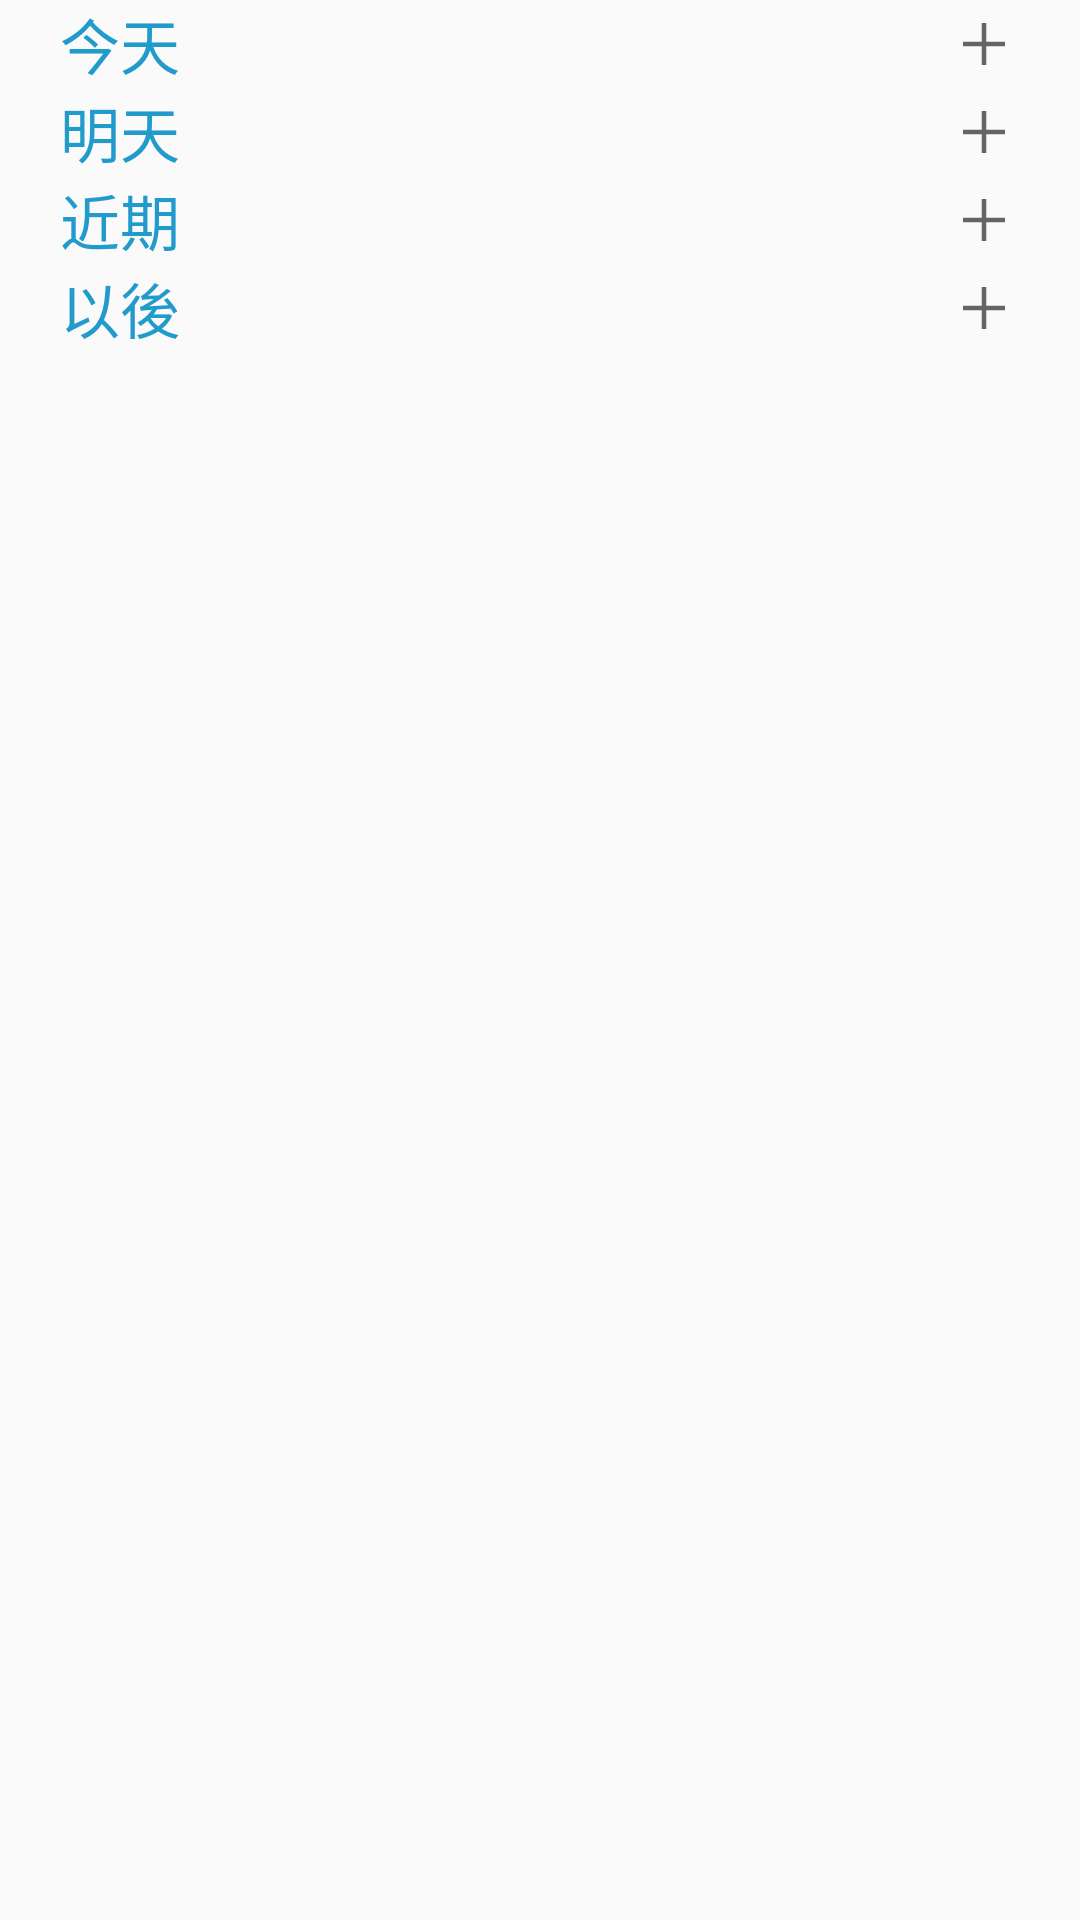

Icons on this 1080x1920 Android screen, each with its box as bbox=(x1, y1, x2, y2):
add: bbox=(963, 23, 1005, 65), bbox=(963, 111, 1005, 153), bbox=(963, 199, 1005, 241), bbox=(963, 287, 1005, 329)
